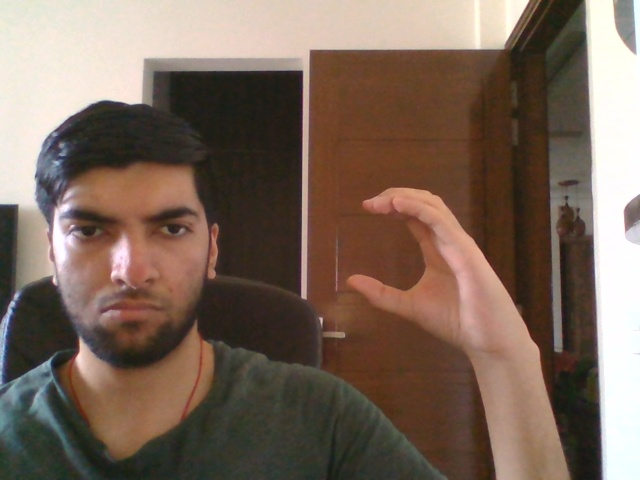LetterC: (345, 186, 537, 354)
